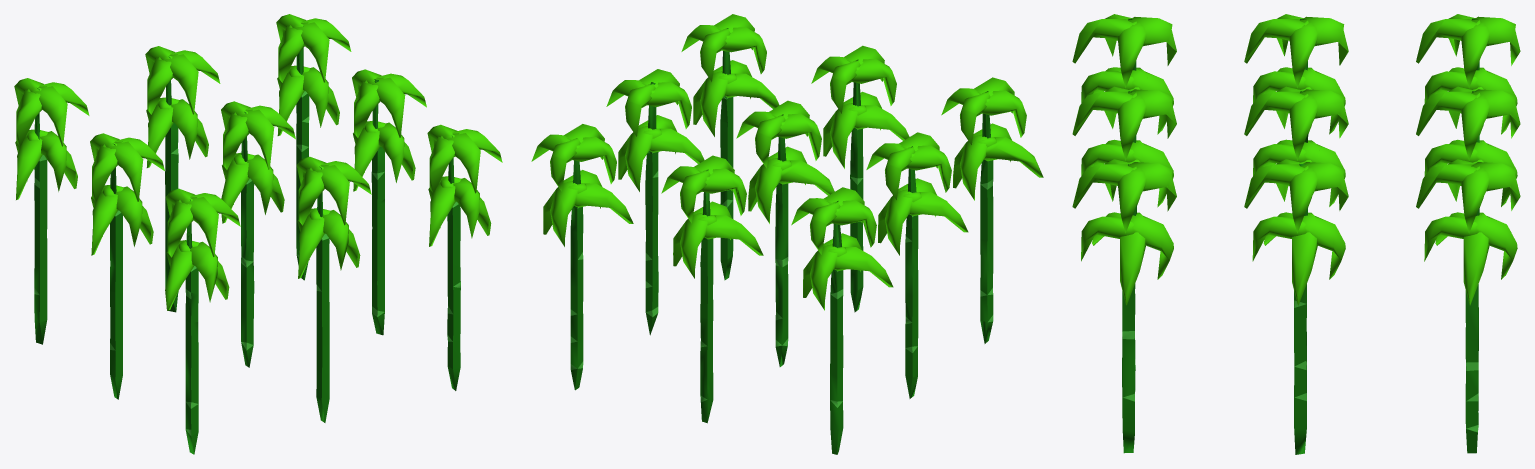
File: sugarcane.fbx
The picture shows the model from 3 angles, left to right: view 1: azimuth 30°, elevation 25°; view 2: azimuth 150°, elevation 25°; view 3: azimuth 270°, elevation 25°; orthographic projection. The views are drawn at different scales.
Parts seen in each view (by area): view 1: Sugarcane_Mesh; view 2: Sugarcane_Mesh; view 3: Sugarcane_Mesh.
Part boxes in pixels (x1=…): Sugarcane_Mesh: x1=14, y1=14, x2=502, y2=454; Sugarcane_Mesh: x1=531, y1=14, x2=1043, y2=454; Sugarcane_Mesh: x1=1072, y1=14, x2=1520, y2=454.
Bounding box in the file's own units: 535 × 376 × 522.
